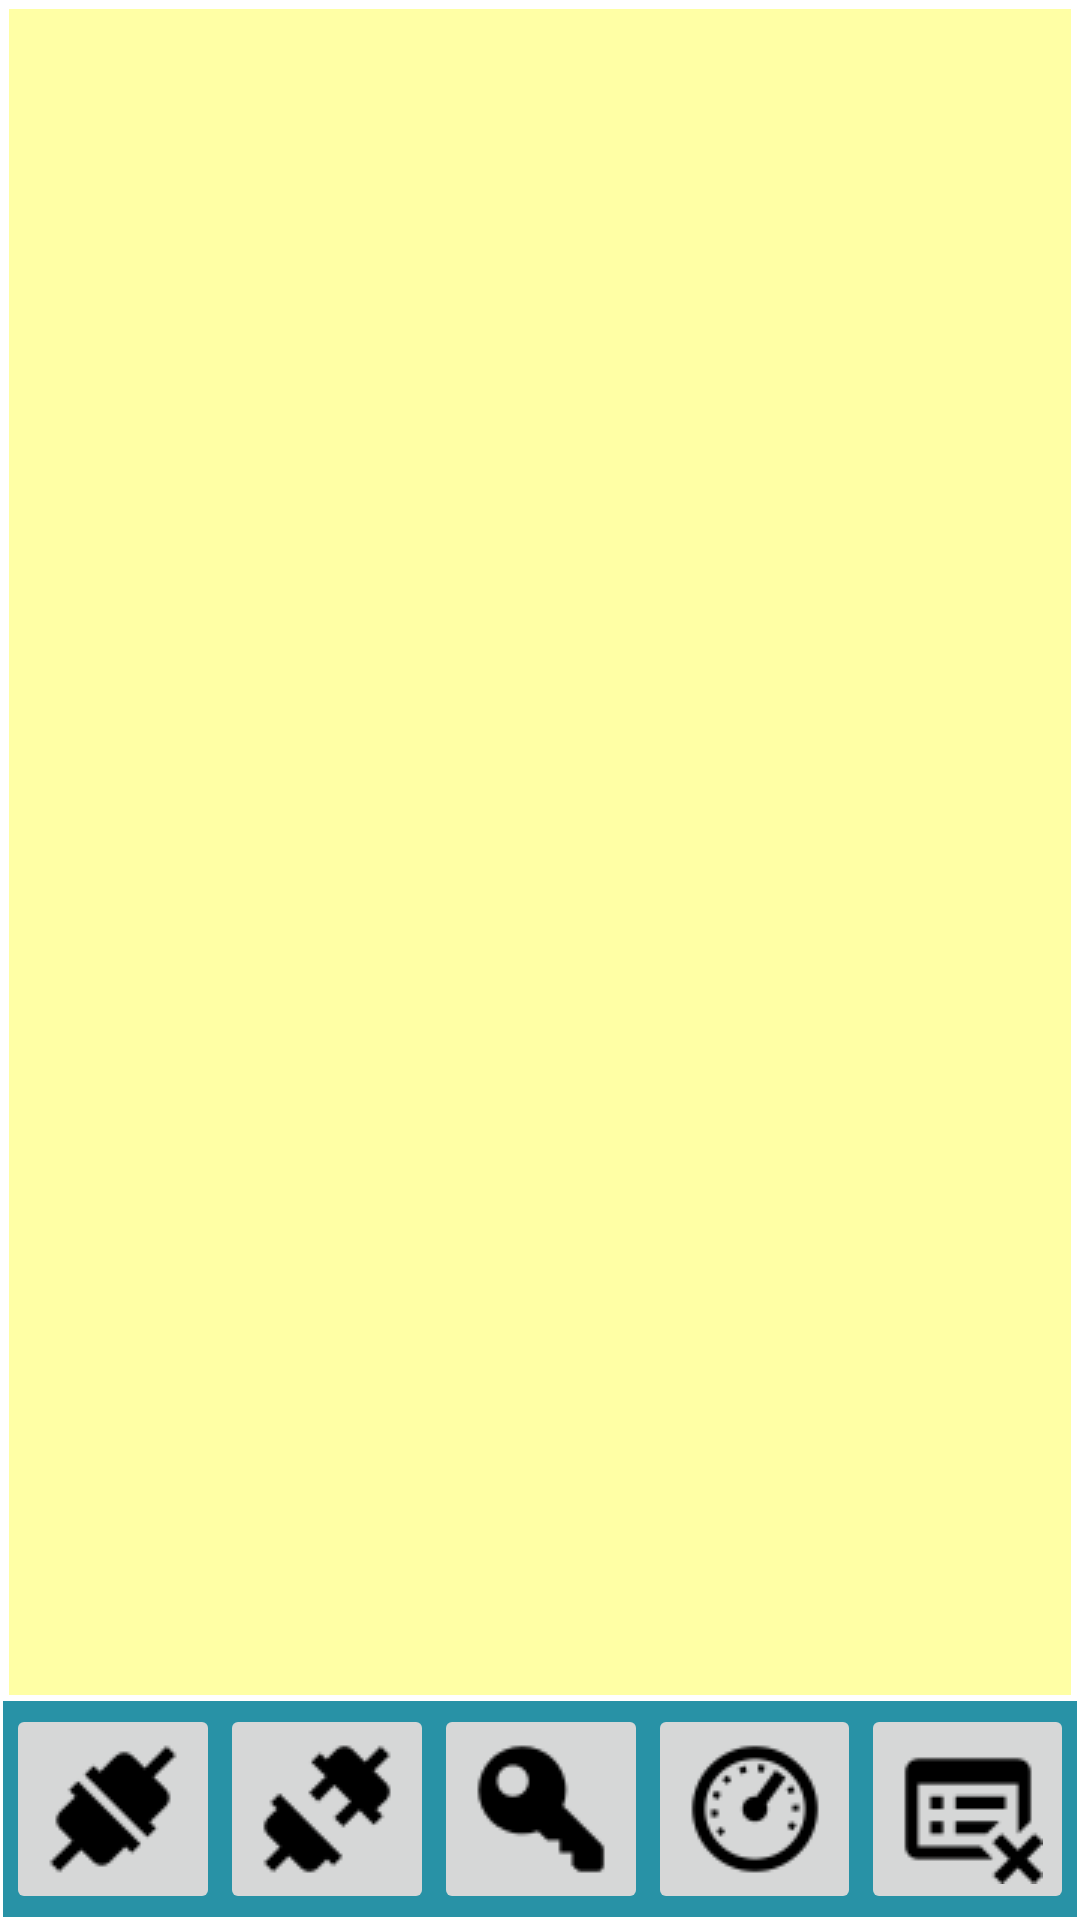

Screen size 1080px x 1920px. Icon name, then its center in pixels as [x,y]:
connected: [113,1809]
dashboard: [754,1809]
delete document: [967,1809]
disconnected: [327,1809]
key: [541,1809]
